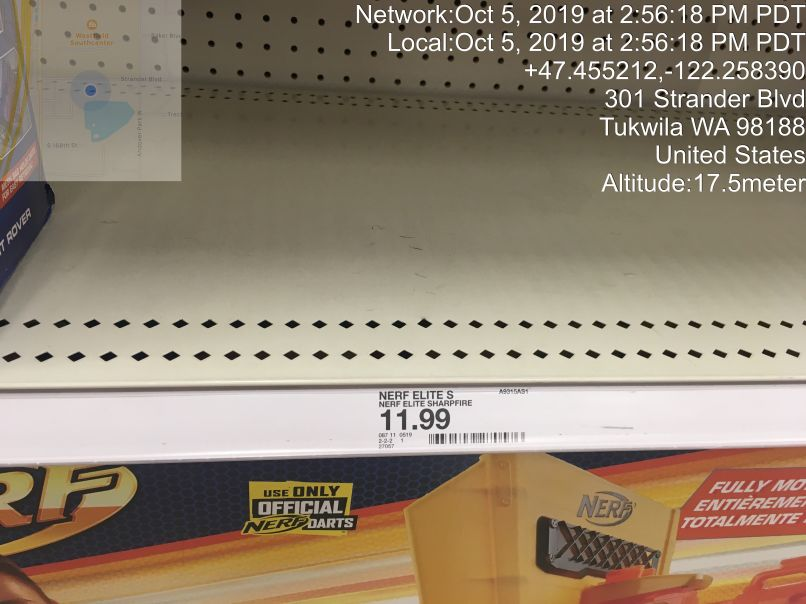Label: (370, 384, 565, 452)
Location: (595, 86, 806, 174)
Time: (350, 4, 806, 55)
Void: (56, 73, 562, 347)
